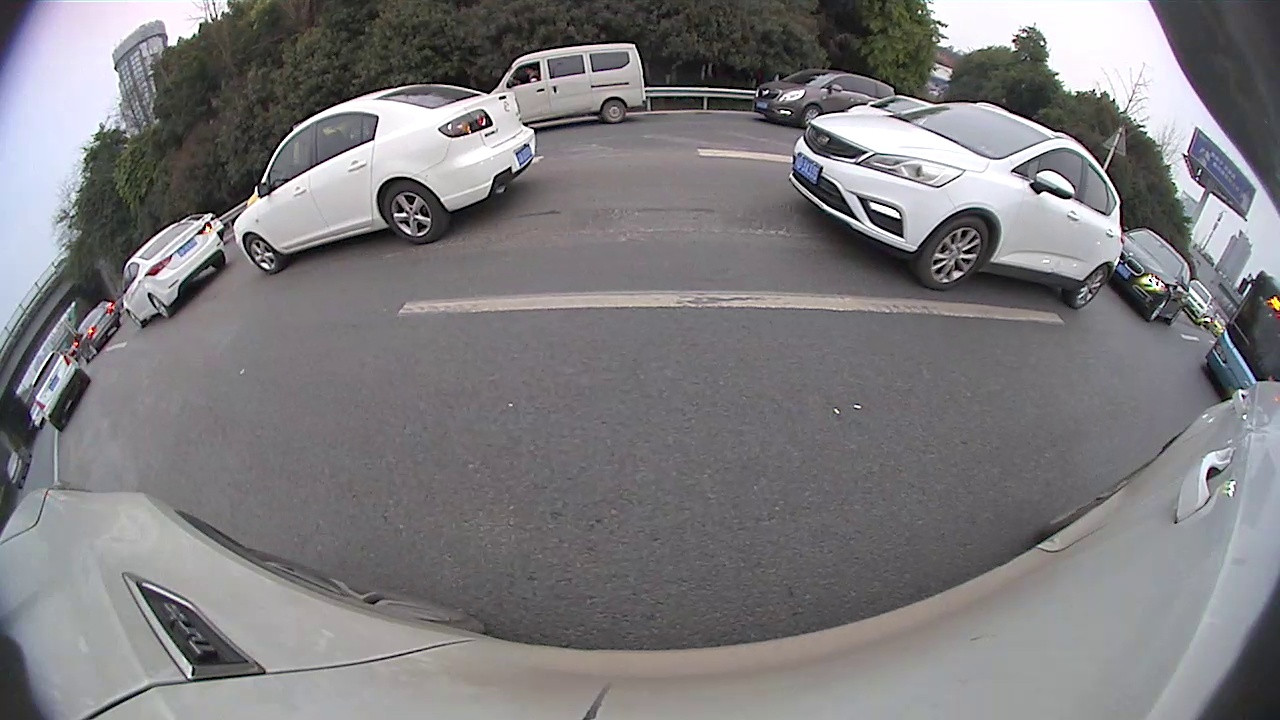bus: (1202, 266, 1279, 400)
car: (785, 100, 1127, 308), (230, 83, 540, 276), (491, 38, 648, 129), (119, 216, 229, 331), (756, 56, 898, 128), (1116, 226, 1194, 326), (23, 348, 93, 436), (69, 295, 127, 359)
front: (914, 213, 992, 295), (242, 232, 283, 275), (797, 102, 823, 129), (1146, 296, 1170, 324)
rear: (380, 177, 453, 248), (1062, 262, 1111, 312), (147, 292, 173, 322), (602, 97, 627, 127)
